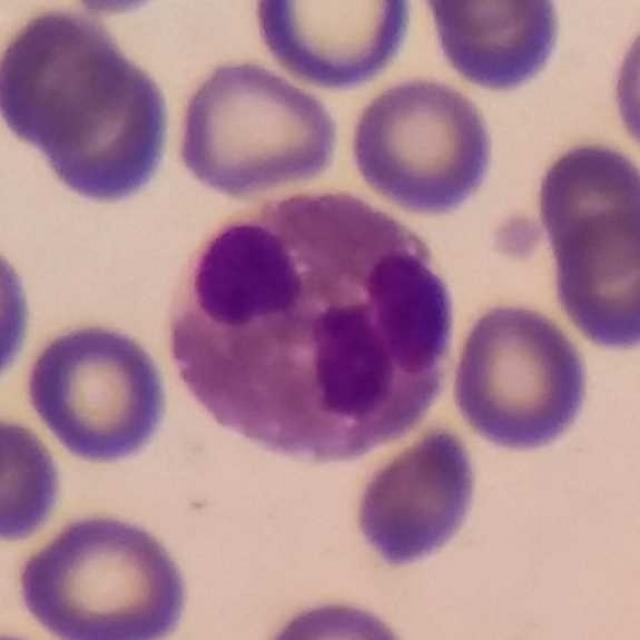Eosinophil: (157, 176, 456, 472)
RBC: (20, 22, 179, 210), (170, 55, 342, 199), (12, 506, 196, 640), (446, 296, 594, 456), (20, 315, 173, 467), (346, 73, 499, 218), (0, 2, 135, 162), (347, 420, 483, 573), (244, 0, 419, 92), (531, 135, 640, 279), (543, 200, 640, 355), (416, 0, 569, 97), (0, 412, 68, 545), (250, 591, 418, 640), (0, 229, 37, 402), (604, 8, 640, 167), (414, 0, 562, 33)
